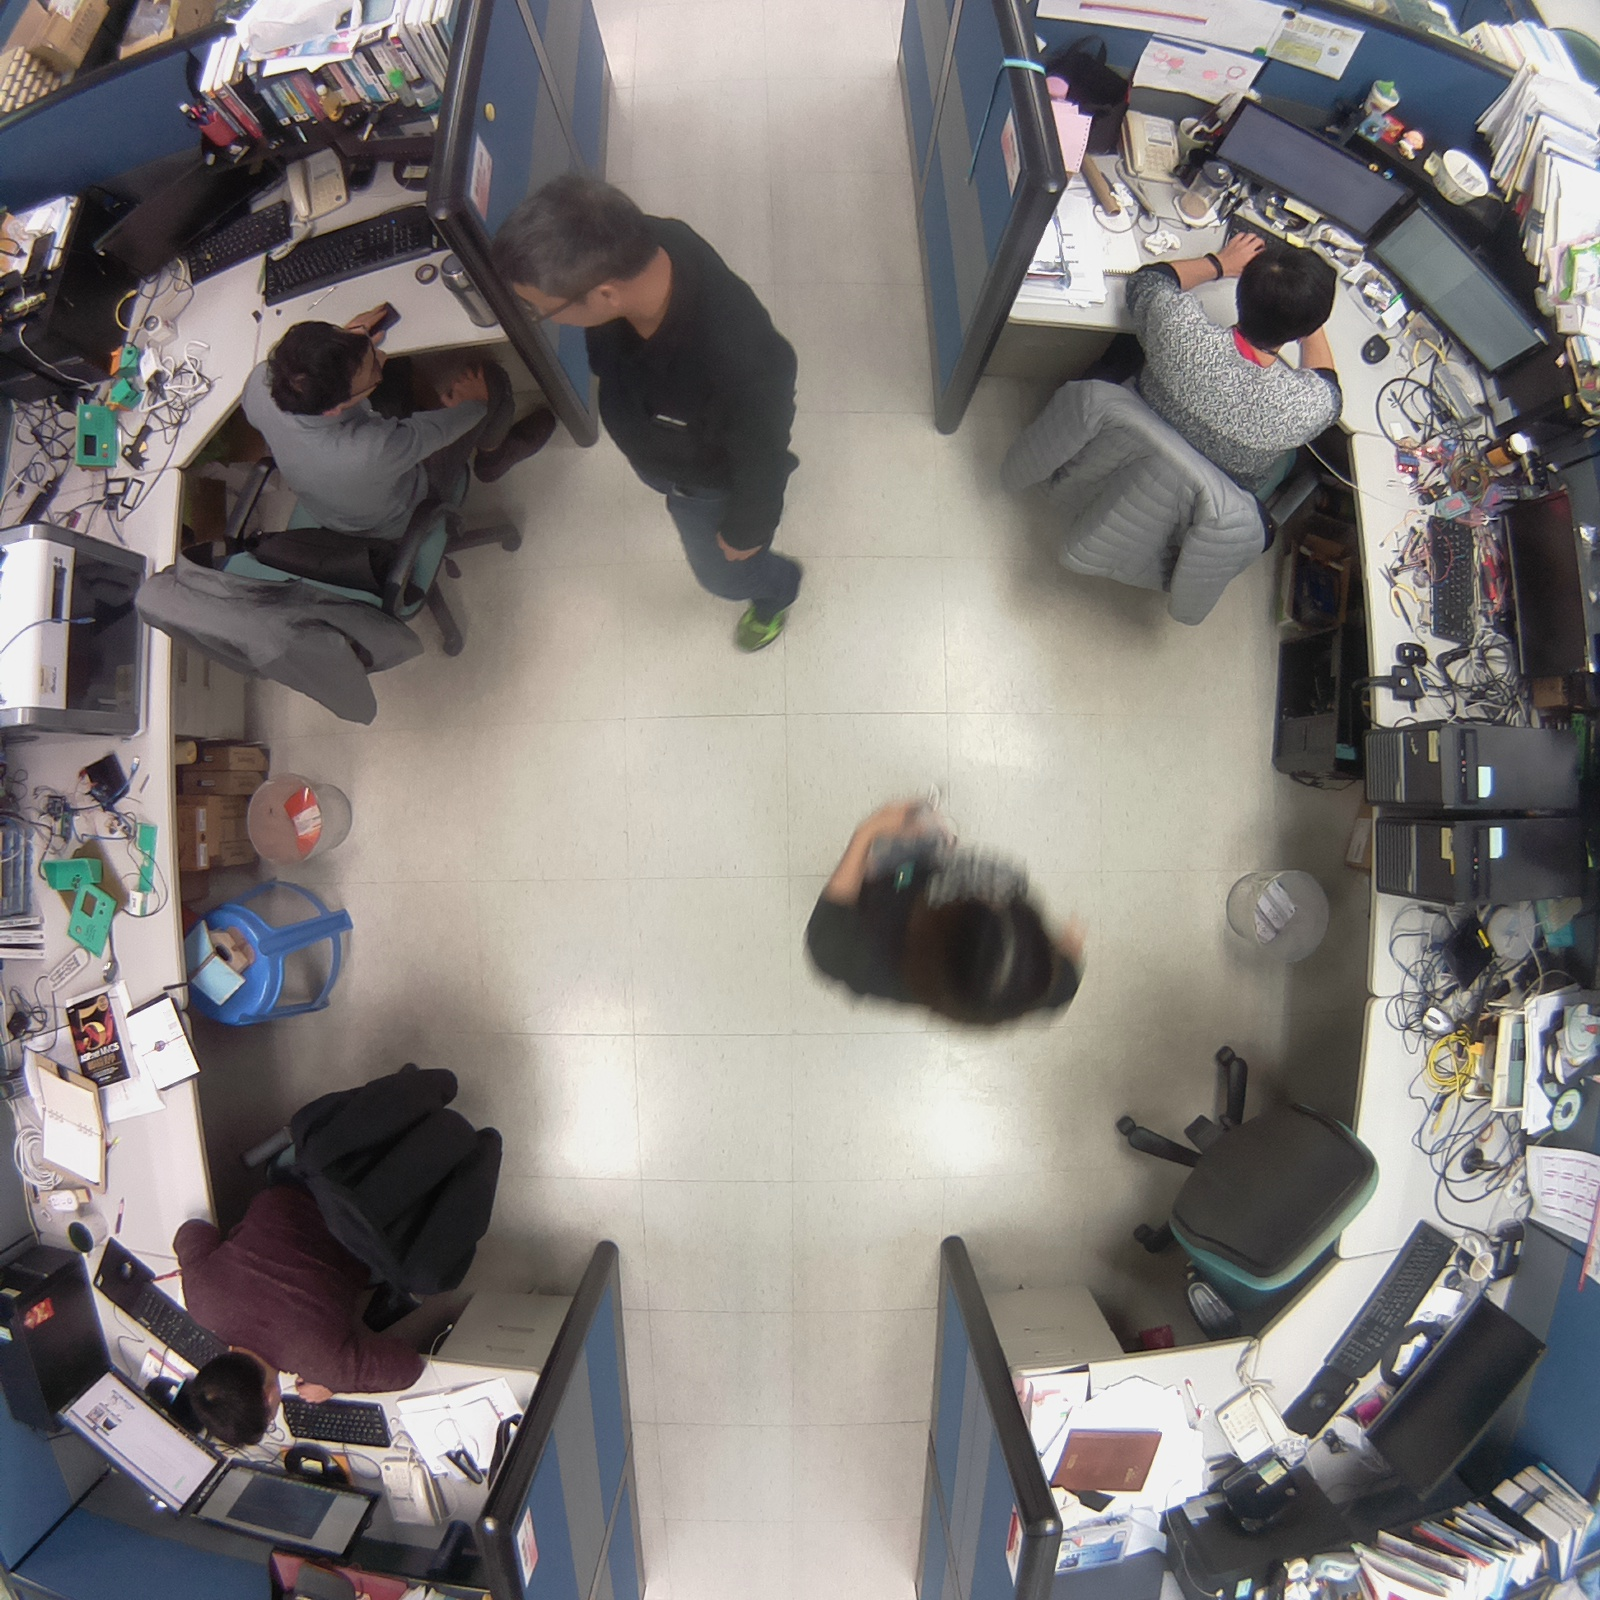chair: (1091, 1034, 1394, 1347)
head: (485, 165, 661, 338), (908, 885, 1057, 1040), (261, 310, 397, 425), (176, 1346, 287, 1455), (1229, 239, 1341, 347)
sitting: (106, 309, 479, 742), (968, 234, 1348, 645), (164, 1037, 522, 1469)
standing: (490, 174, 815, 663)
walking: (788, 777, 1096, 1046)
